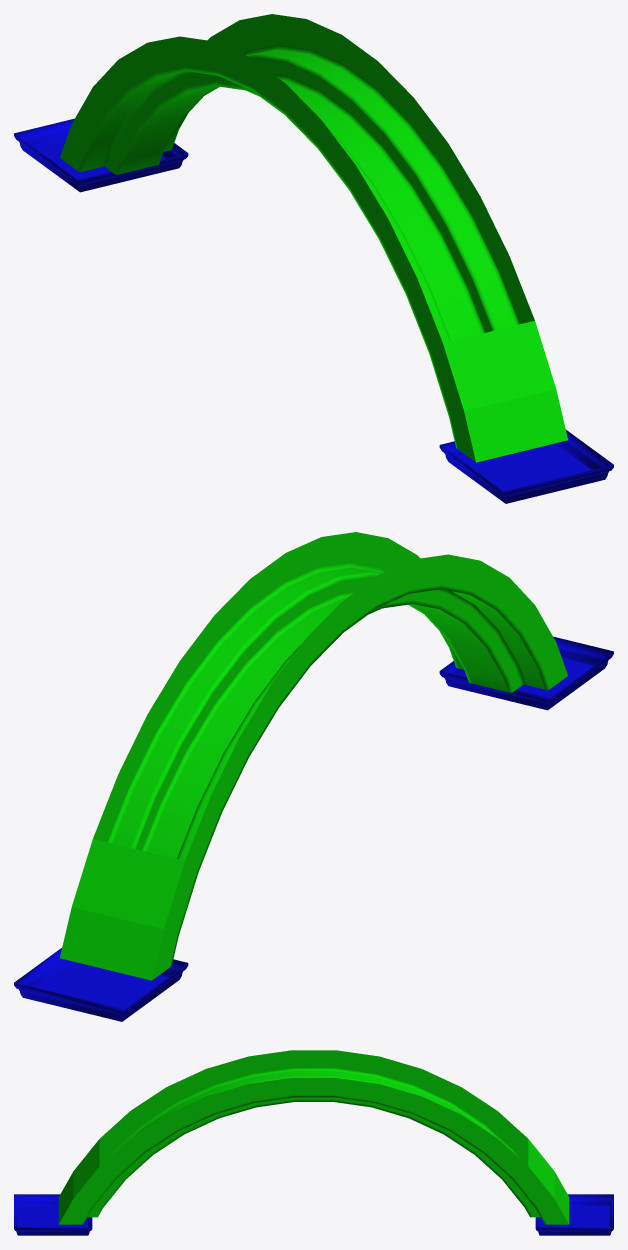
File: SM_Ceiling_Arch6mSupport.fbx
The picture shows the model from 3 angles, top to bottom: view 1: azimuth 30°, elevation 25°; view 2: azimuth 150°, elevation 25°; view 3: azimuth 270°, elevation 25°; orthographic projection. The views are drawn at different scales.
Visible parts, largest first — view 1: SM_Ceiling_Arch6mSupport; view 2: SM_Ceiling_Arch6mSupport; view 3: SM_Ceiling_Arch6mSupport.
Boxes of the visible parts, left/top/right/bottom form: SM_Ceiling_Arch6mSupport: left=14, top=14, right=613, bottom=503; SM_Ceiling_Arch6mSupport: left=14, top=532, right=613, bottom=1021; SM_Ceiling_Arch6mSupport: left=14, top=1050, right=613, bottom=1235.
Bounding box in the file's own units: 90 × 199 × 690.
